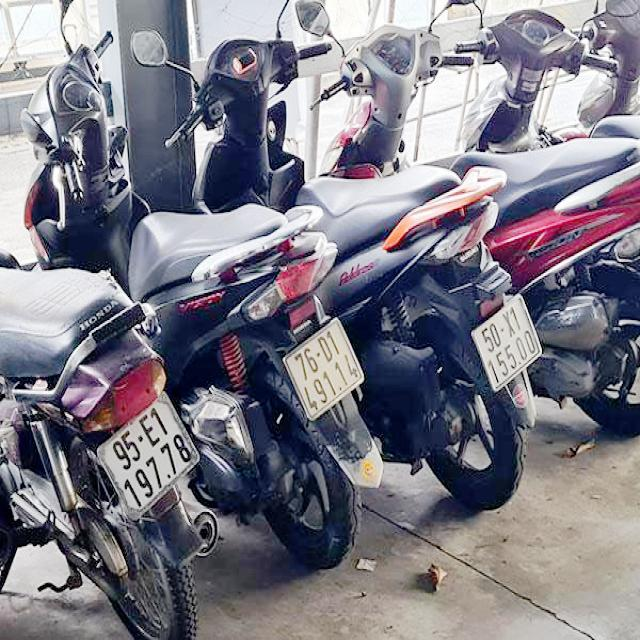license_plate: (101, 397, 199, 517), (286, 321, 365, 421), (473, 295, 542, 390)
